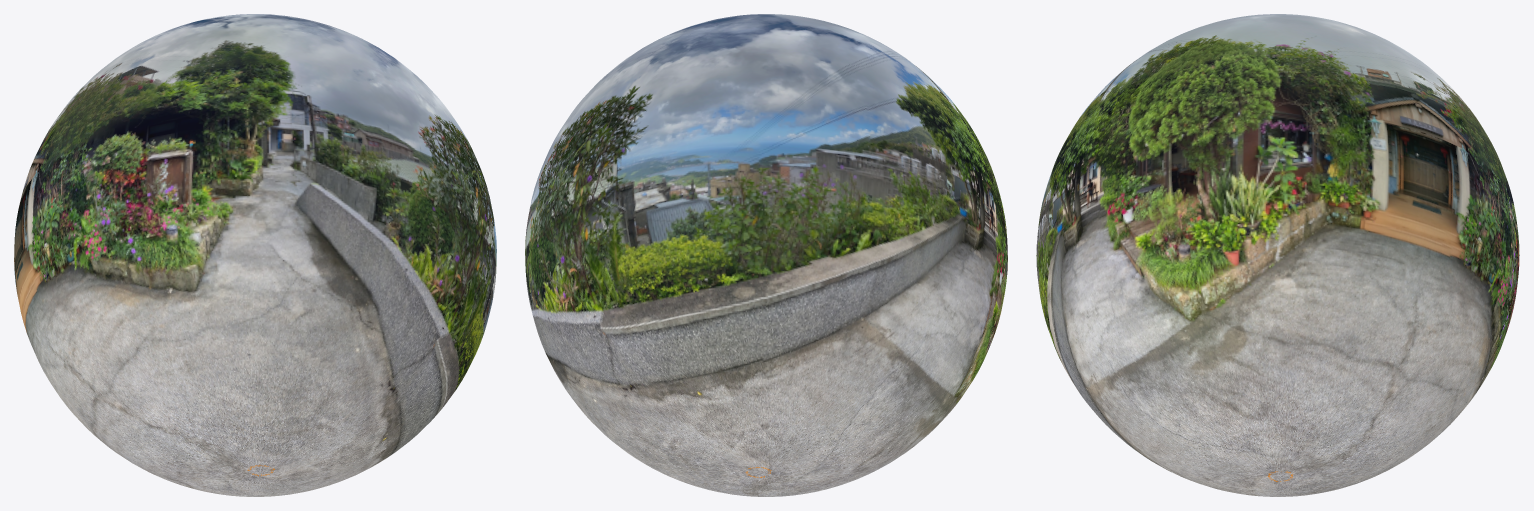
Rendered from PORTAL_MOUNTAIN_VILLAGE.glb.
3 renders of one model, left to right at view 1: azimuth 30°, elevation 25°; view 2: azimuth 150°, elevation 25°; view 3: azimuth 270°, elevation 25°, orthographic.
Parts seen in each view (by area): view 1: Mesh_0; view 2: Mesh_0; view 3: Mesh_0.
Boxes of the visible parts, x1,y1,x2,y2 form: Mesh_0: (14, 14, 496, 496); Mesh_0: (525, 14, 1007, 496); Mesh_0: (1036, 14, 1519, 496).
Size of the model in its own units: 3.4 by 3.4 by 3.4.
2 materials, 1 textured.
